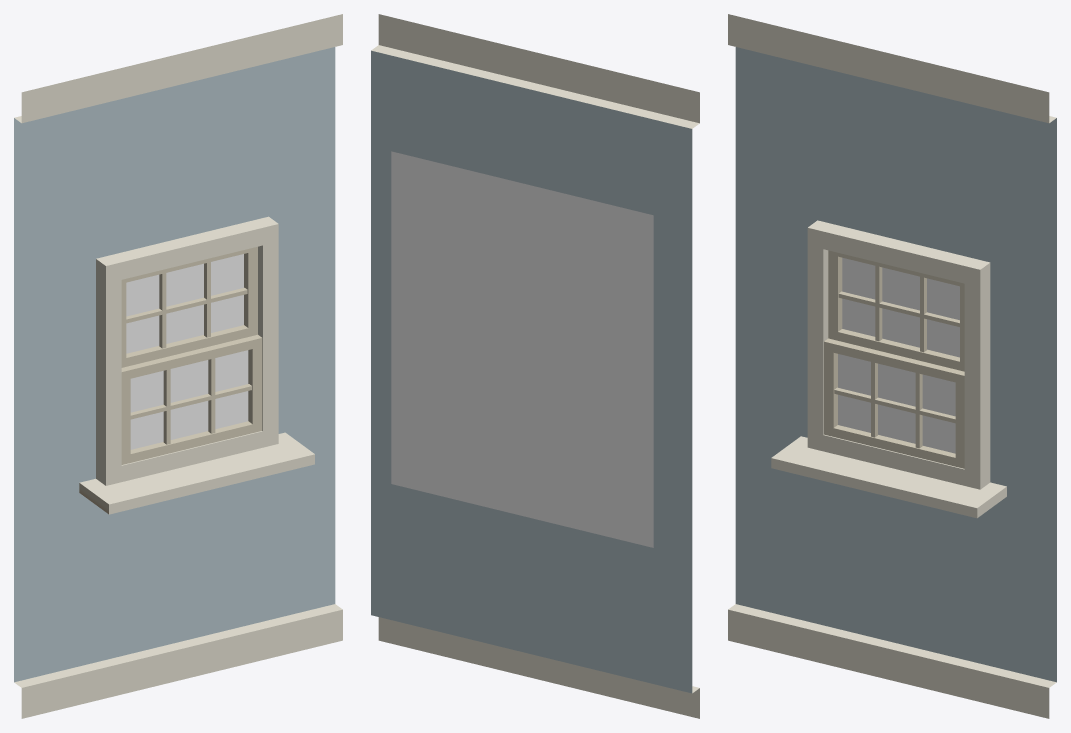
The model's file is 01_wall(window).FBX.
3 renders of one model, left to right at view 1: azimuth 30°, elevation 25°; view 2: azimuth 150°, elevation 25°; view 3: azimuth 330°, elevation 25°, orthographic.
Parts seen in each view (by area): view 1: 01_wall(window) (×2), 01_wall(light)002; view 2: 01_wall(window), 01_wall(light)002; view 3: 01_wall(window) (×2), 01_wall(light)002.
Boxes of the visible parts, x1,y1,x2,y2 form: 01_wall(window) (×2): (14, 14, 342, 718); 01_wall(light)002: (126, 254, 248, 449); 01_wall(window): (371, 14, 699, 718); 01_wall(light)002: (391, 151, 653, 547); 01_wall(window) (×2): (728, 14, 1056, 718); 01_wall(light)002: (838, 257, 959, 453).
Size of the model in its own units: 136 by 253 by 24.26.
